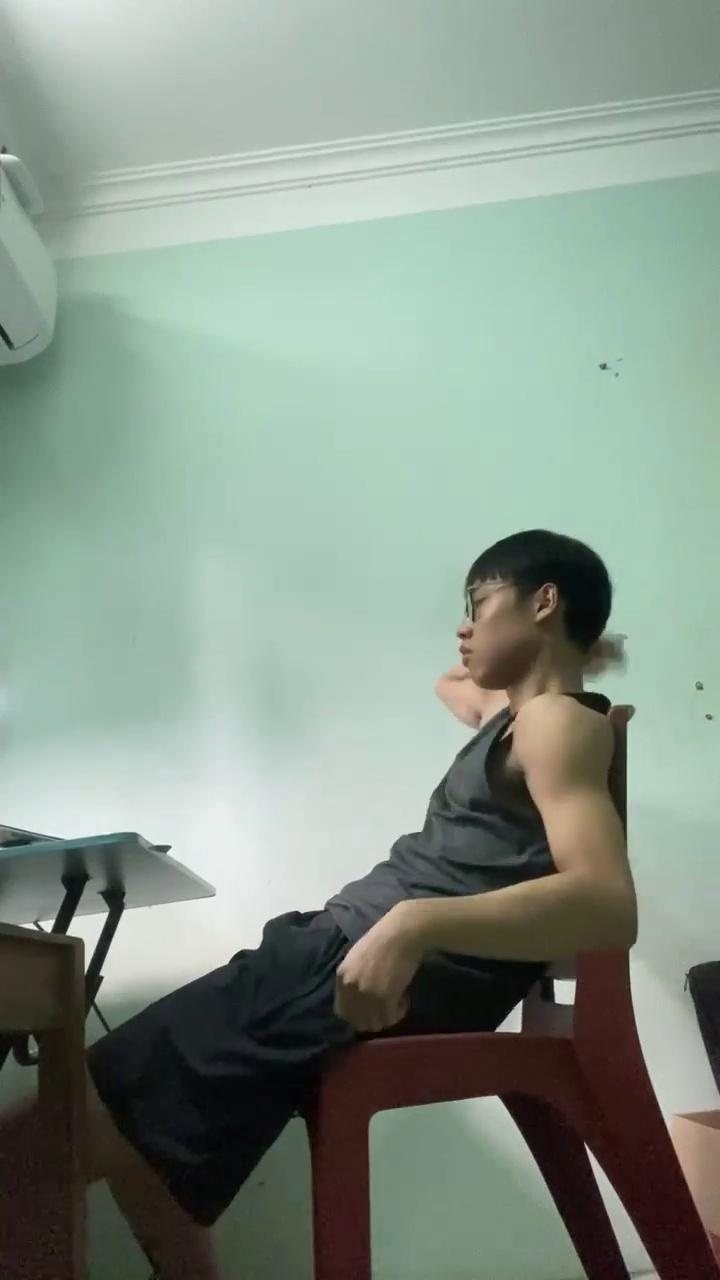BadPosture: (0, 541, 638, 1256)
